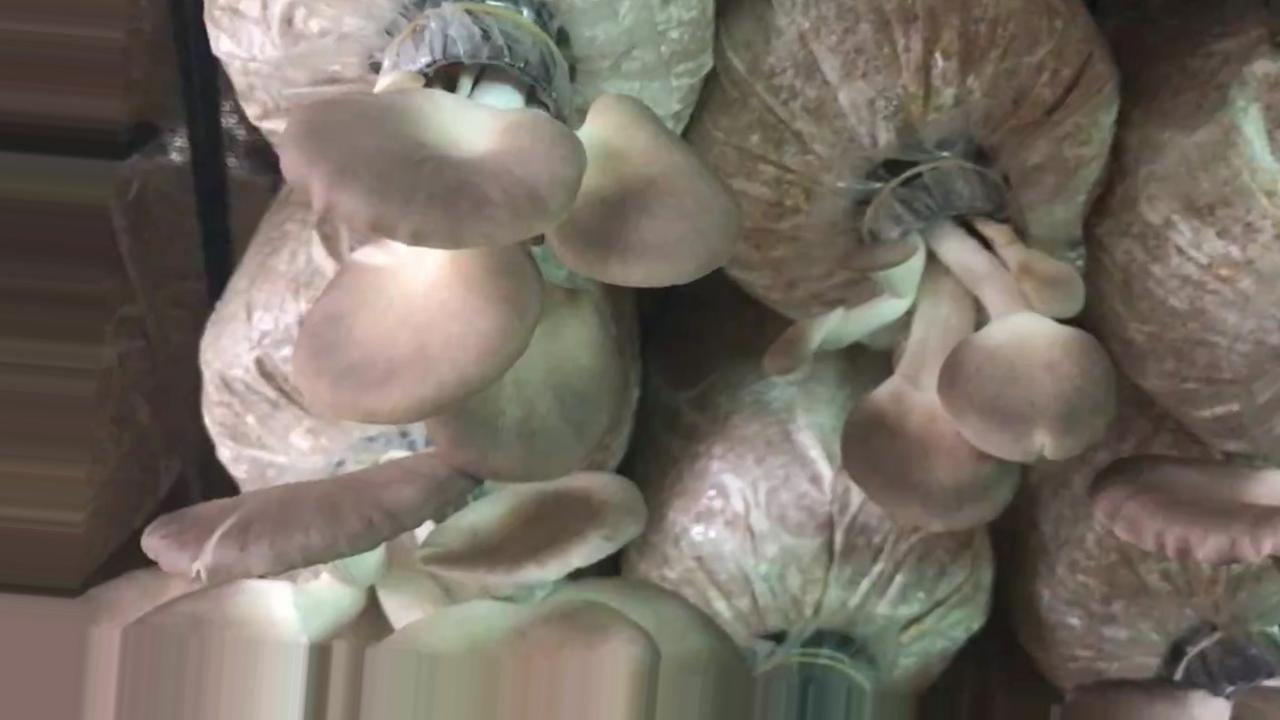nam: (3, 463, 749, 720), (284, 73, 738, 480), (780, 160, 1118, 528), (1085, 458, 1280, 561)
